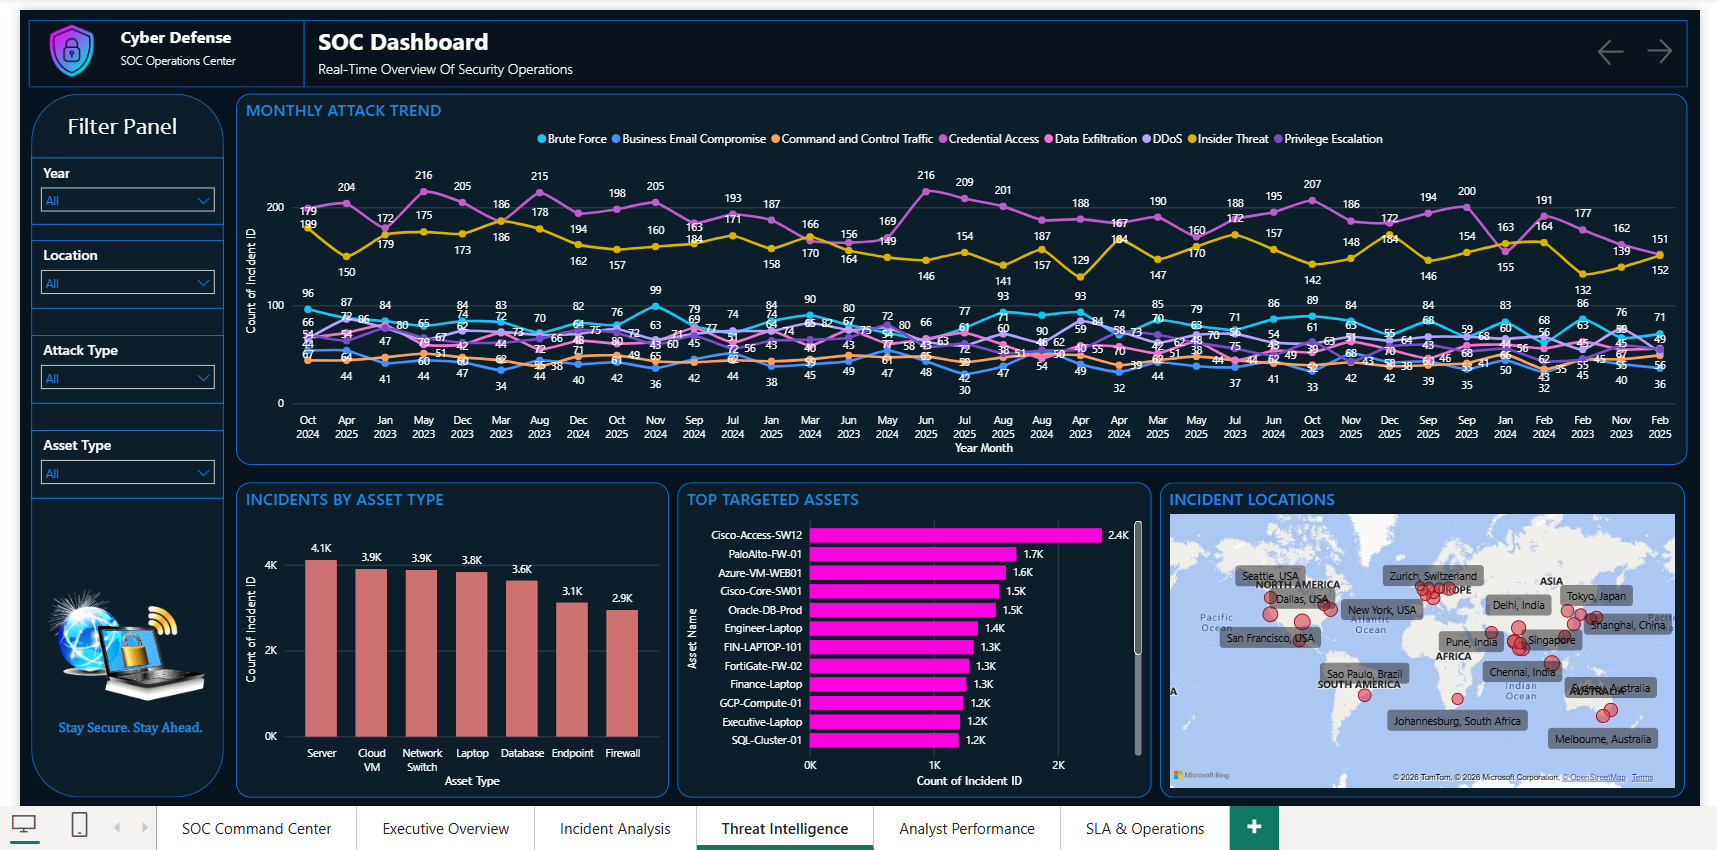

Layout of this report page (visuals, bound fields, positions):
{"tool":"powerbi","page":{"name":"Threat Intelligence","canvas":[1920,1080],"ordinal":3},"visuals":[{"type":"group","id":"g1","title":"Group 8","box":[324.3,11.4,1581.4,77.1],"z":0},{"type":"group","id":"g2","title":"Group 7","box":[10,12,315,77],"z":1000},{"type":"shape","box":[10,12,315,77],"z":1000,"group":"g2"},{"type":"textbox","title":"Cyber Defense","box":[110,17,154,30],"z":2000,"group":"g2"},{"type":"actionButton","box":[1854.3,27.1,38.6,40],"z":2000},{"type":"actionButton","box":[1798.6,28.6,41.4,40],"z":3000},{"type":"textbox","title":"SOC Operations Center","box":[110,49,195,27],"z":3000,"group":"g2"},{"type":"image","box":[17,14,84,67],"z":4000,"group":"g2"},{"type":"shape","box":[12.9,95.7,220,804.3],"z":4000},{"type":"shape","box":[324.3,11.4,1581.4,77.1],"z":5000,"group":"g1"},{"type":"shape","title":"Filter Panel","box":[54.3,115.7,132.9,35.7],"z":5000},{"type":"textbox","title":"SOC Dashboard","box":[335.3,16.4,232.2,64],"z":6000,"group":"g1"},{"type":"image","box":[32.9,661.4,178.6,128.6],"z":6000},{"type":"textbox","title":"Real-Time Overview Of Security Operations","box":[335.3,56.4,376.6,24],"z":7000,"group":"g1"},{"type":"shape","title":"Stay Secure. Stay Ahead.","box":[44.3,811.4,187.1,32.9],"z":7000},{"type":"slicer","fields":{"Values":["Date.Year"]},"box":[12.9,168.6,220,77.1],"z":8000},{"type":"slicer","fields":{"Values":["Incident.AttackType"]},"box":[12.9,371.4,220,78.6],"z":9000},{"type":"slicer","fields":{"Values":["Asset.Location"]},"box":[12.9,262.9,220,78.6],"z":10000},{"type":"slicer","fields":{"Values":["Asset.AssetType"]},"box":[12.9,480,220,78.6],"z":11000},{"type":"map","title":"INCIDENT LOCATIONS","fields":{"Category":["Asset.Location"],"Size":["CountNonNull(Incident.IncidentID)"]},"box":[1302.9,540,600,360],"z":12000},{"type":"barChart","title":"TOP TARGETED ASSETS","fields":{"Category":["Asset.AssetName"],"Y":["CountNonNull(Incident.IncidentID)"]},"box":[751.4,540,541.4,360],"z":13000},{"type":"columnChart","title":"INCIDENTS BY ASSET TYPE","fields":{"Y":["CountNonNull(Incident.IncidentID)"],"Category":["Asset.AssetType"]},"box":[247.1,540,494.3,360],"z":14000},{"type":"lineChart","title":"MONTHLY ATTACK TREND","fields":{"Category":["Date.YearMonth"],"Y":["CountNonNull(Incident.IncidentID)"],"Series":["Incident.AttackType"]},"box":[247.1,95.7,1658.6,424.3],"z":15000}]}

Visuals, with their boxes on the page's 1920x1080 design canvas (x1, y1, x2, y2). These are canvas units, not pixel positions in the 1717x850 screenshot, which may show the page scaled, cropped or inside an application window:
"Group 8" group: 324:11:1906:88
"Group 7" group: 10:12:325:89
shape: 10:12:325:89
"Cyber Defense" textbox: 110:17:264:47
actionButton: 1854:27:1893:67
actionButton: 1799:29:1840:69
"SOC Operations Center" textbox: 110:49:305:76
image: 17:14:101:81
shape: 13:96:233:900
shape: 324:11:1906:88
"Filter Panel" shape: 54:116:187:151
"SOC Dashboard" textbox: 335:16:568:80
image: 33:661:212:790
"Real-Time Overview Of Security Operations" textbox: 335:56:712:80
"Stay Secure. Stay Ahead." shape: 44:811:231:844
slicer - Date.Year: 13:169:233:246
slicer - Incident.AttackType: 13:371:233:450
slicer - Asset.Location: 13:263:233:342
slicer - Asset.AssetType: 13:480:233:559
"INCIDENT LOCATIONS" map: 1303:540:1903:900
"TOP TARGETED ASSETS" barChart: 751:540:1293:900
"INCIDENTS BY ASSET TYPE" columnChart: 247:540:741:900
"MONTHLY ATTACK TREND" lineChart: 247:96:1906:520
